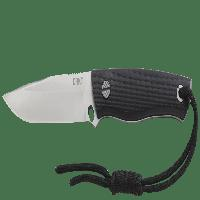knife: (2, 65, 192, 131)
